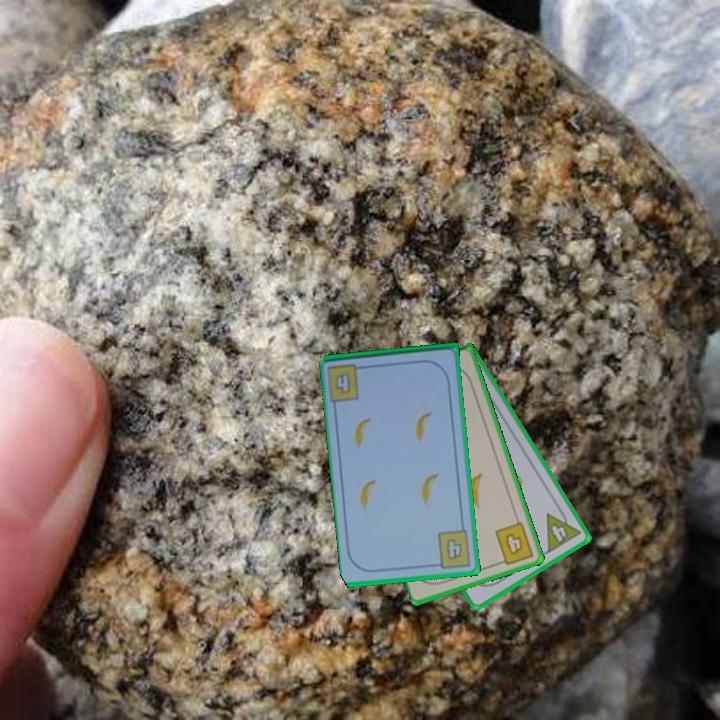4b: (491, 518, 537, 568), (430, 527, 474, 571), (332, 369, 354, 397)
4p: (543, 503, 584, 556)
